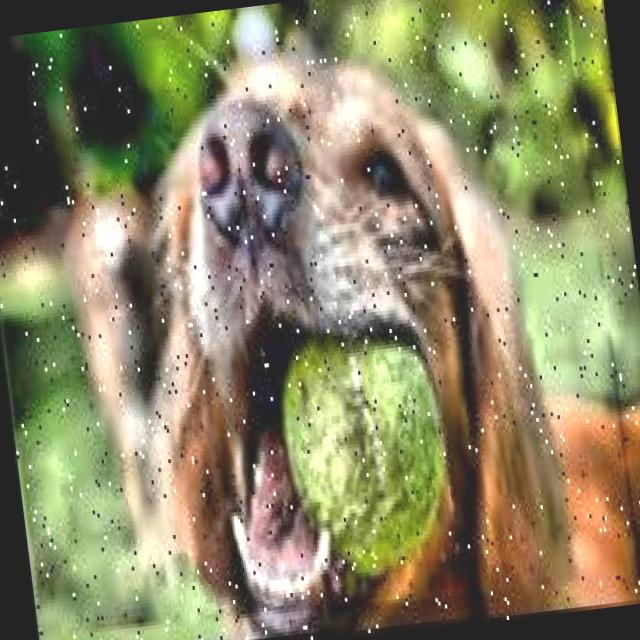Tennis Ball: (255, 319, 458, 584)
